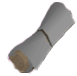scroll3: (1, 1, 77, 76)
